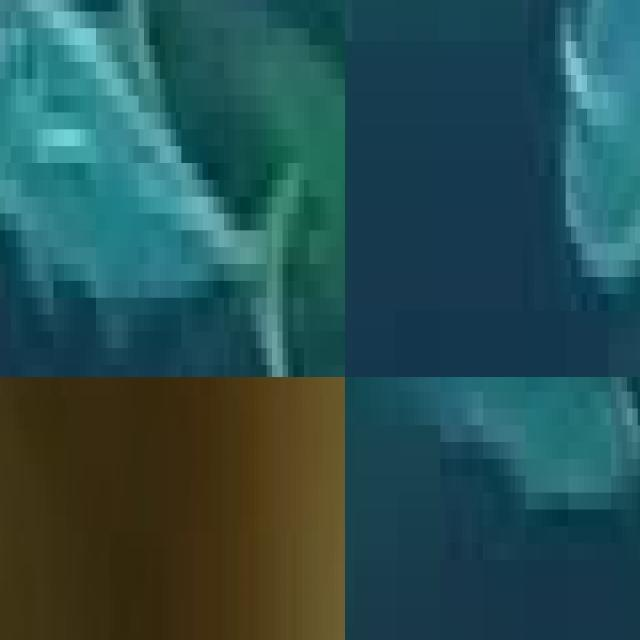fish: (0, 0, 345, 377), (345, 377, 640, 640)
